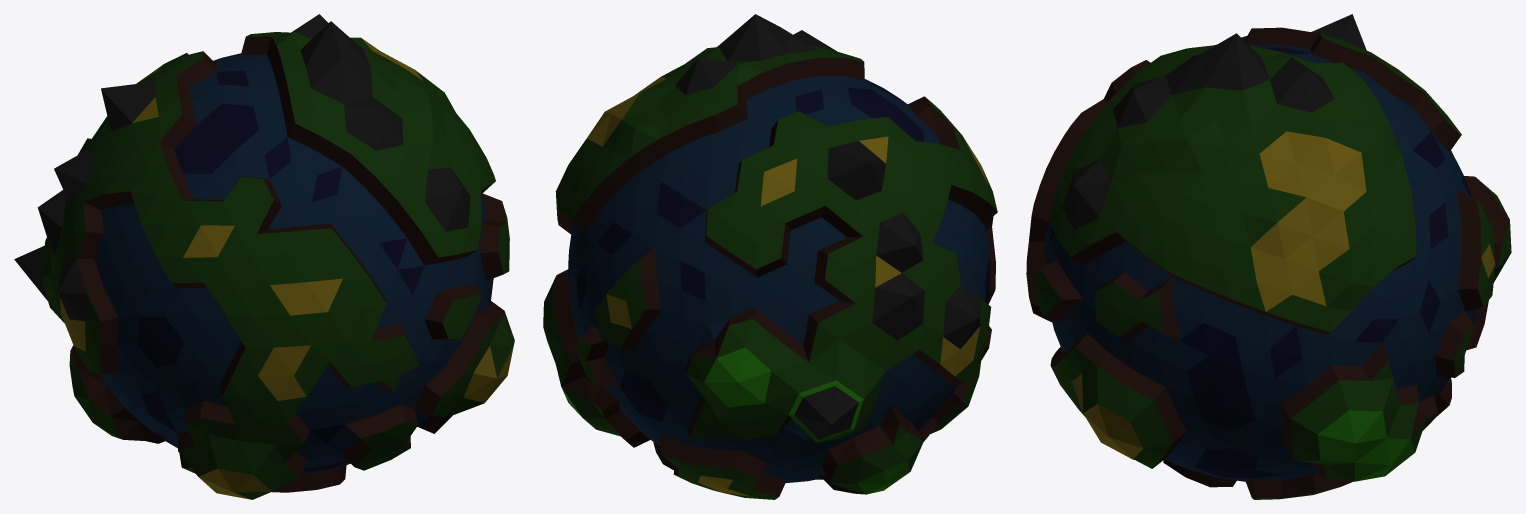
File: Home_Planet.obj
3 views of the same model, side by side, from view 1: azimuth 30°, elevation 25°; view 2: azimuth 150°, elevation 25°; view 3: azimuth 270°, elevation 25° (orthographic). The views are drawn at different scales.
Visible parts, largest first — view 1: Icosphere.001_Icosphere.013; view 2: Icosphere.001_Icosphere.013; view 3: Icosphere.001_Icosphere.013.
Part boxes in pixels (bbox=[...]): Icosphere.001_Icosphere.013: bbox=[14, 14, 514, 499]; Icosphere.001_Icosphere.013: bbox=[543, 14, 997, 499]; Icosphere.001_Icosphere.013: bbox=[1026, 14, 1511, 499].
Size of the model in its own units: 133 by 140 by 133.
